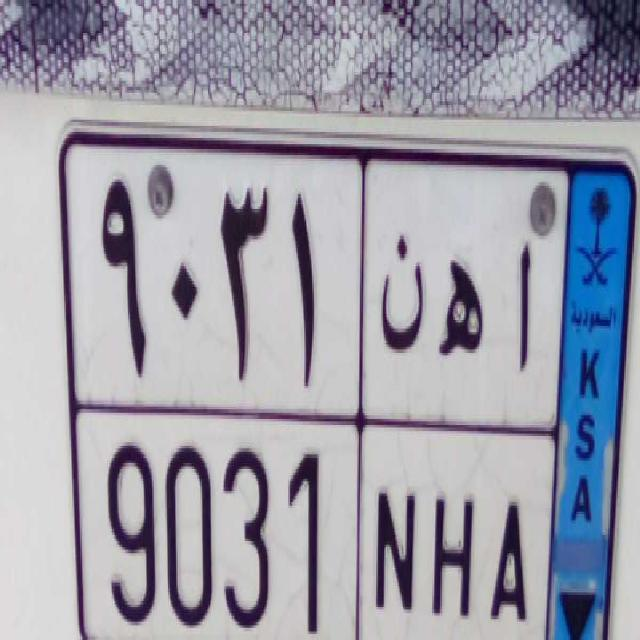license_plate: (87, 401, 543, 640)
